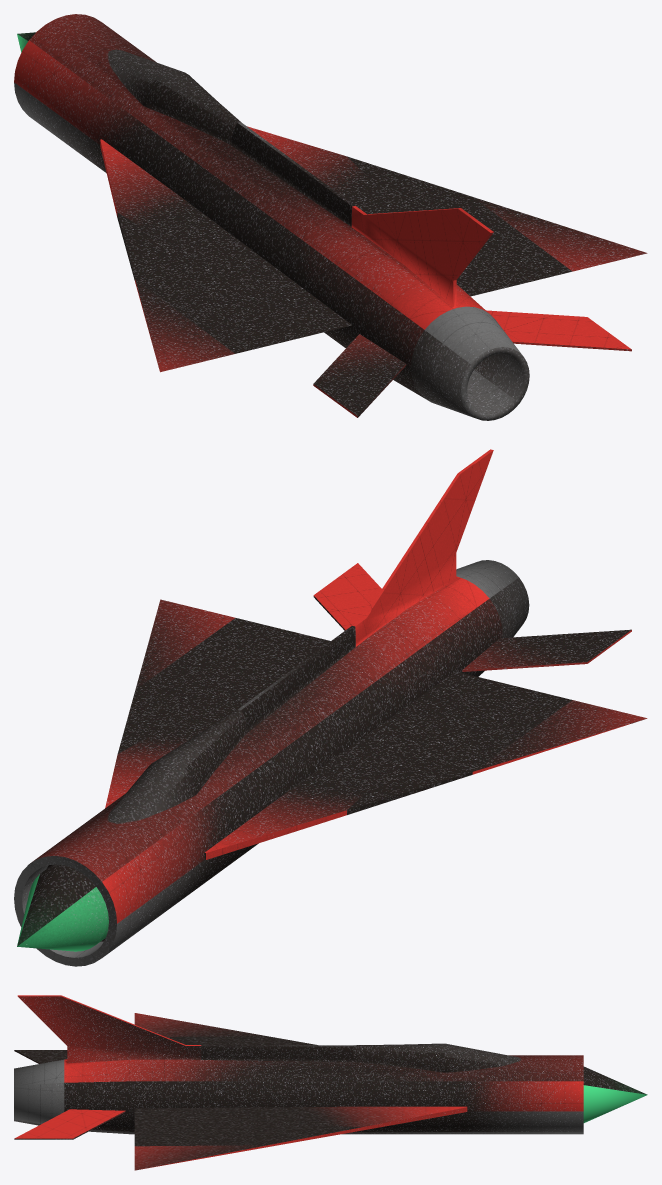
Rendered from m21_crashed.gltf.
3 renders of one model, top to bottom at view 1: azimuth 30°, elevation 25°; view 2: azimuth 150°, elevation 25°; view 3: azimuth 270°, elevation 25°, orthographic. The views are drawn at different scales.
Visible parts, largest first — view 1: Fuse, Wing_L, Wing1_L, Wing1_R, Wing_R, Elevator_L, Wing2_L, Wing2_R, Elevator_R; view 2: Fuse, Wing_L, Wing1_L, Wing1_R, Wing_R, Elevator_L, Wing2_L, Wing2_R, Elevator_R; view 3: Fuse, Wing_R, Wing1_R, Elevator_R, Wing2_R, Wing2_L, Wing1_L, Elevator_L.
Boxes of the visible parts, left/top/right/bottom form: Fuse: left=14, top=14, right=529, bottom=420; Wing_L: left=100, top=139, right=351, bottom=333; Wing1_L: left=117, top=212, right=317, bottom=353; Wing1_R: left=347, top=156, right=572, bottom=291; Wing_R: left=247, top=126, right=489, bottom=296; Elevator_L: left=313, top=334, right=406, bottom=417; Wing2_L: left=135, top=279, right=234, bottom=372; Wing2_R: left=473, top=197, right=647, bottom=271; Elevator_R: left=486, top=310, right=631, bottom=351; Fuse: left=14, top=449, right=529, bottom=966; Wing_L: left=204, top=671, right=489, bottom=859; Wing1_L: left=347, top=680, right=572, bottom=814; Wing1_R: left=117, top=618, right=317, bottom=753; Wing_R: left=105, top=638, right=330, bottom=808; Elevator_L: left=462, top=629, right=631, bottom=671; Wing2_L: left=472, top=700, right=647, bottom=774; Wing2_R: left=135, top=599, right=235, bottom=688; Elevator_R: left=313, top=563, right=381, bottom=630; Fuse: left=14, top=995, right=647, bottom=1134; Wing_R: left=134, top=1106, right=467, bottom=1130; Wing1_R: left=134, top=1119, right=362, bottom=1147; Elevator_R: left=14, top=1109, right=125, bottom=1139; Wing2_R: left=134, top=1145, right=267, bottom=1170; Wing2_L: left=134, top=1013, right=266, bottom=1036; Wing1_L: left=166, top=1036, right=317, bottom=1045; Elevator_L: left=14, top=1050, right=67, bottom=1063.
Size of the model in its own units: 9.01 by 3.59 by 15.29.
Materials: 3 (3 with a texture image).
